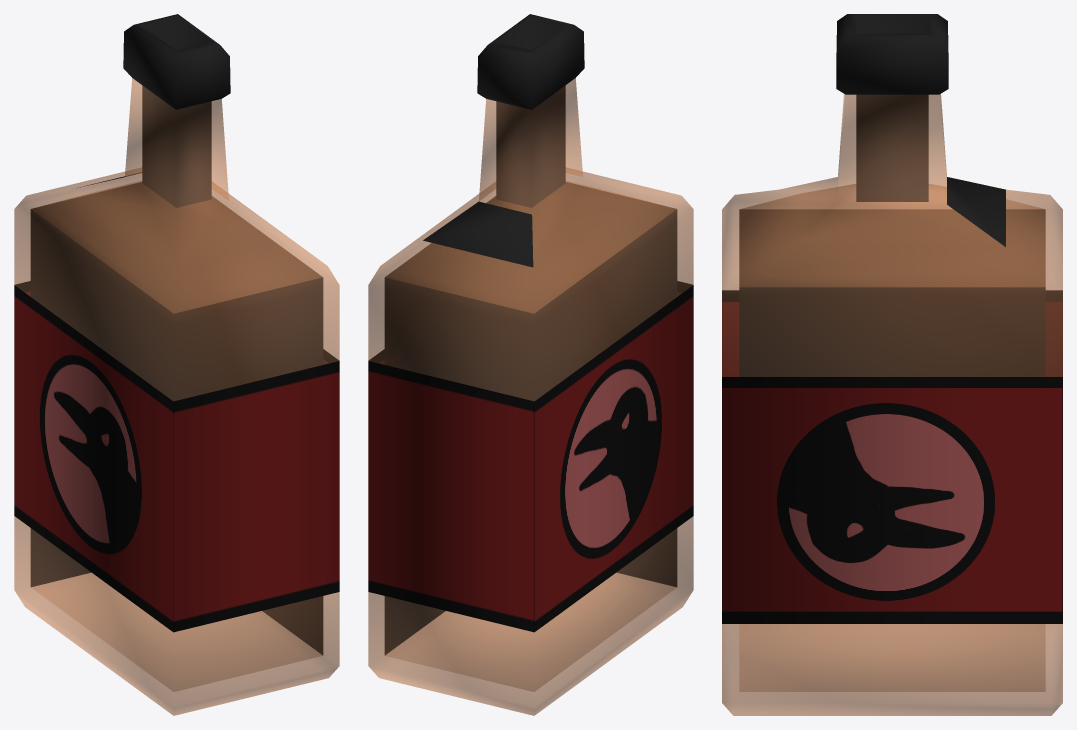
Rendered from whiskey_bottle.fbx.
3 views of the same model, side by side, from view 1: azimuth 30°, elevation 25°; view 2: azimuth 150°, elevation 25°; view 3: azimuth 270°, elevation 25° (orthographic). The views are drawn at different scales.
Visible parts, largest first — view 1: Plane; view 2: Plane; view 3: Plane.
Part boxes in pixels (left/top/right/bottom): Plane: left=14, top=14, right=339, bottom=715; Plane: left=368, top=14, right=693, bottom=715; Plane: left=722, top=14, right=1062, bottom=715.
Size of the model in its own units: 148 by 518 by 245.
3 materials, 1 textured.
